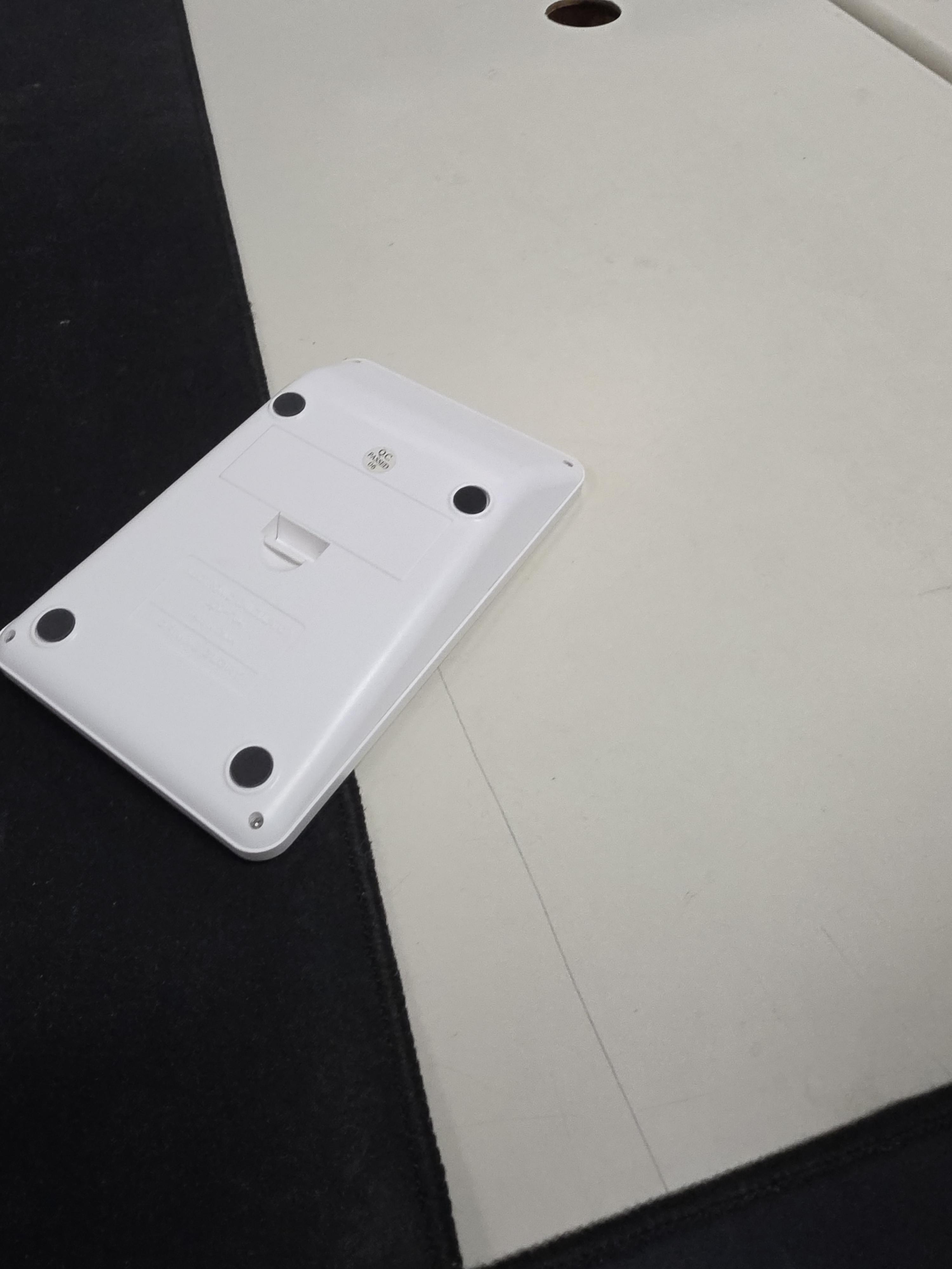calculator: (0, 358, 586, 862)
